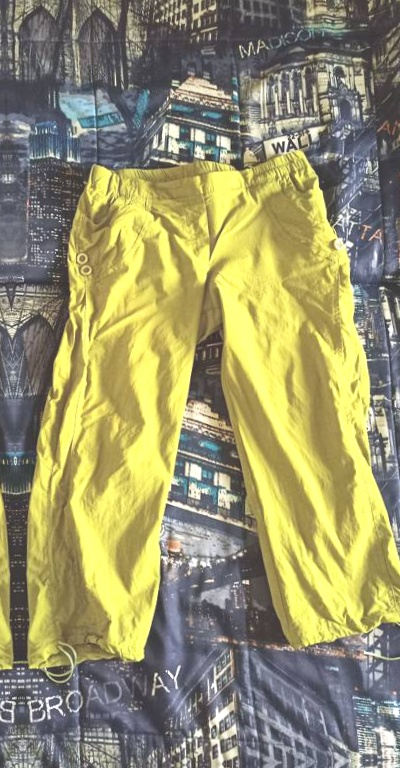Pants: (20, 115, 400, 652), (0, 125, 6, 662)
